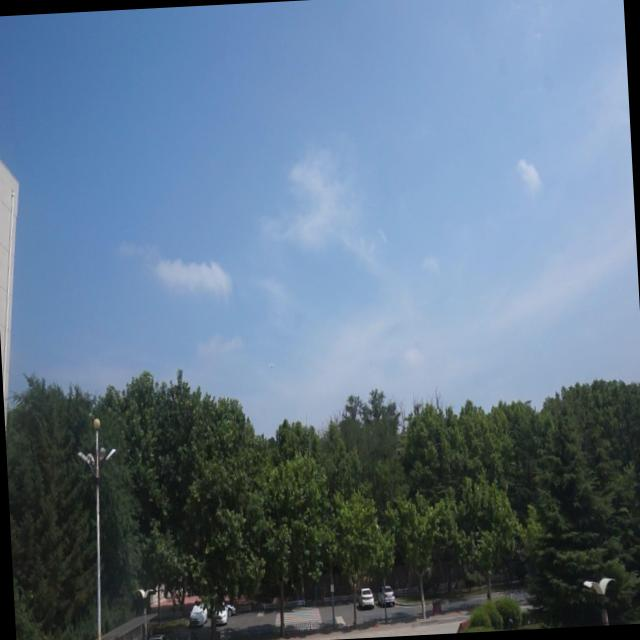drone: (269, 360, 275, 374)
